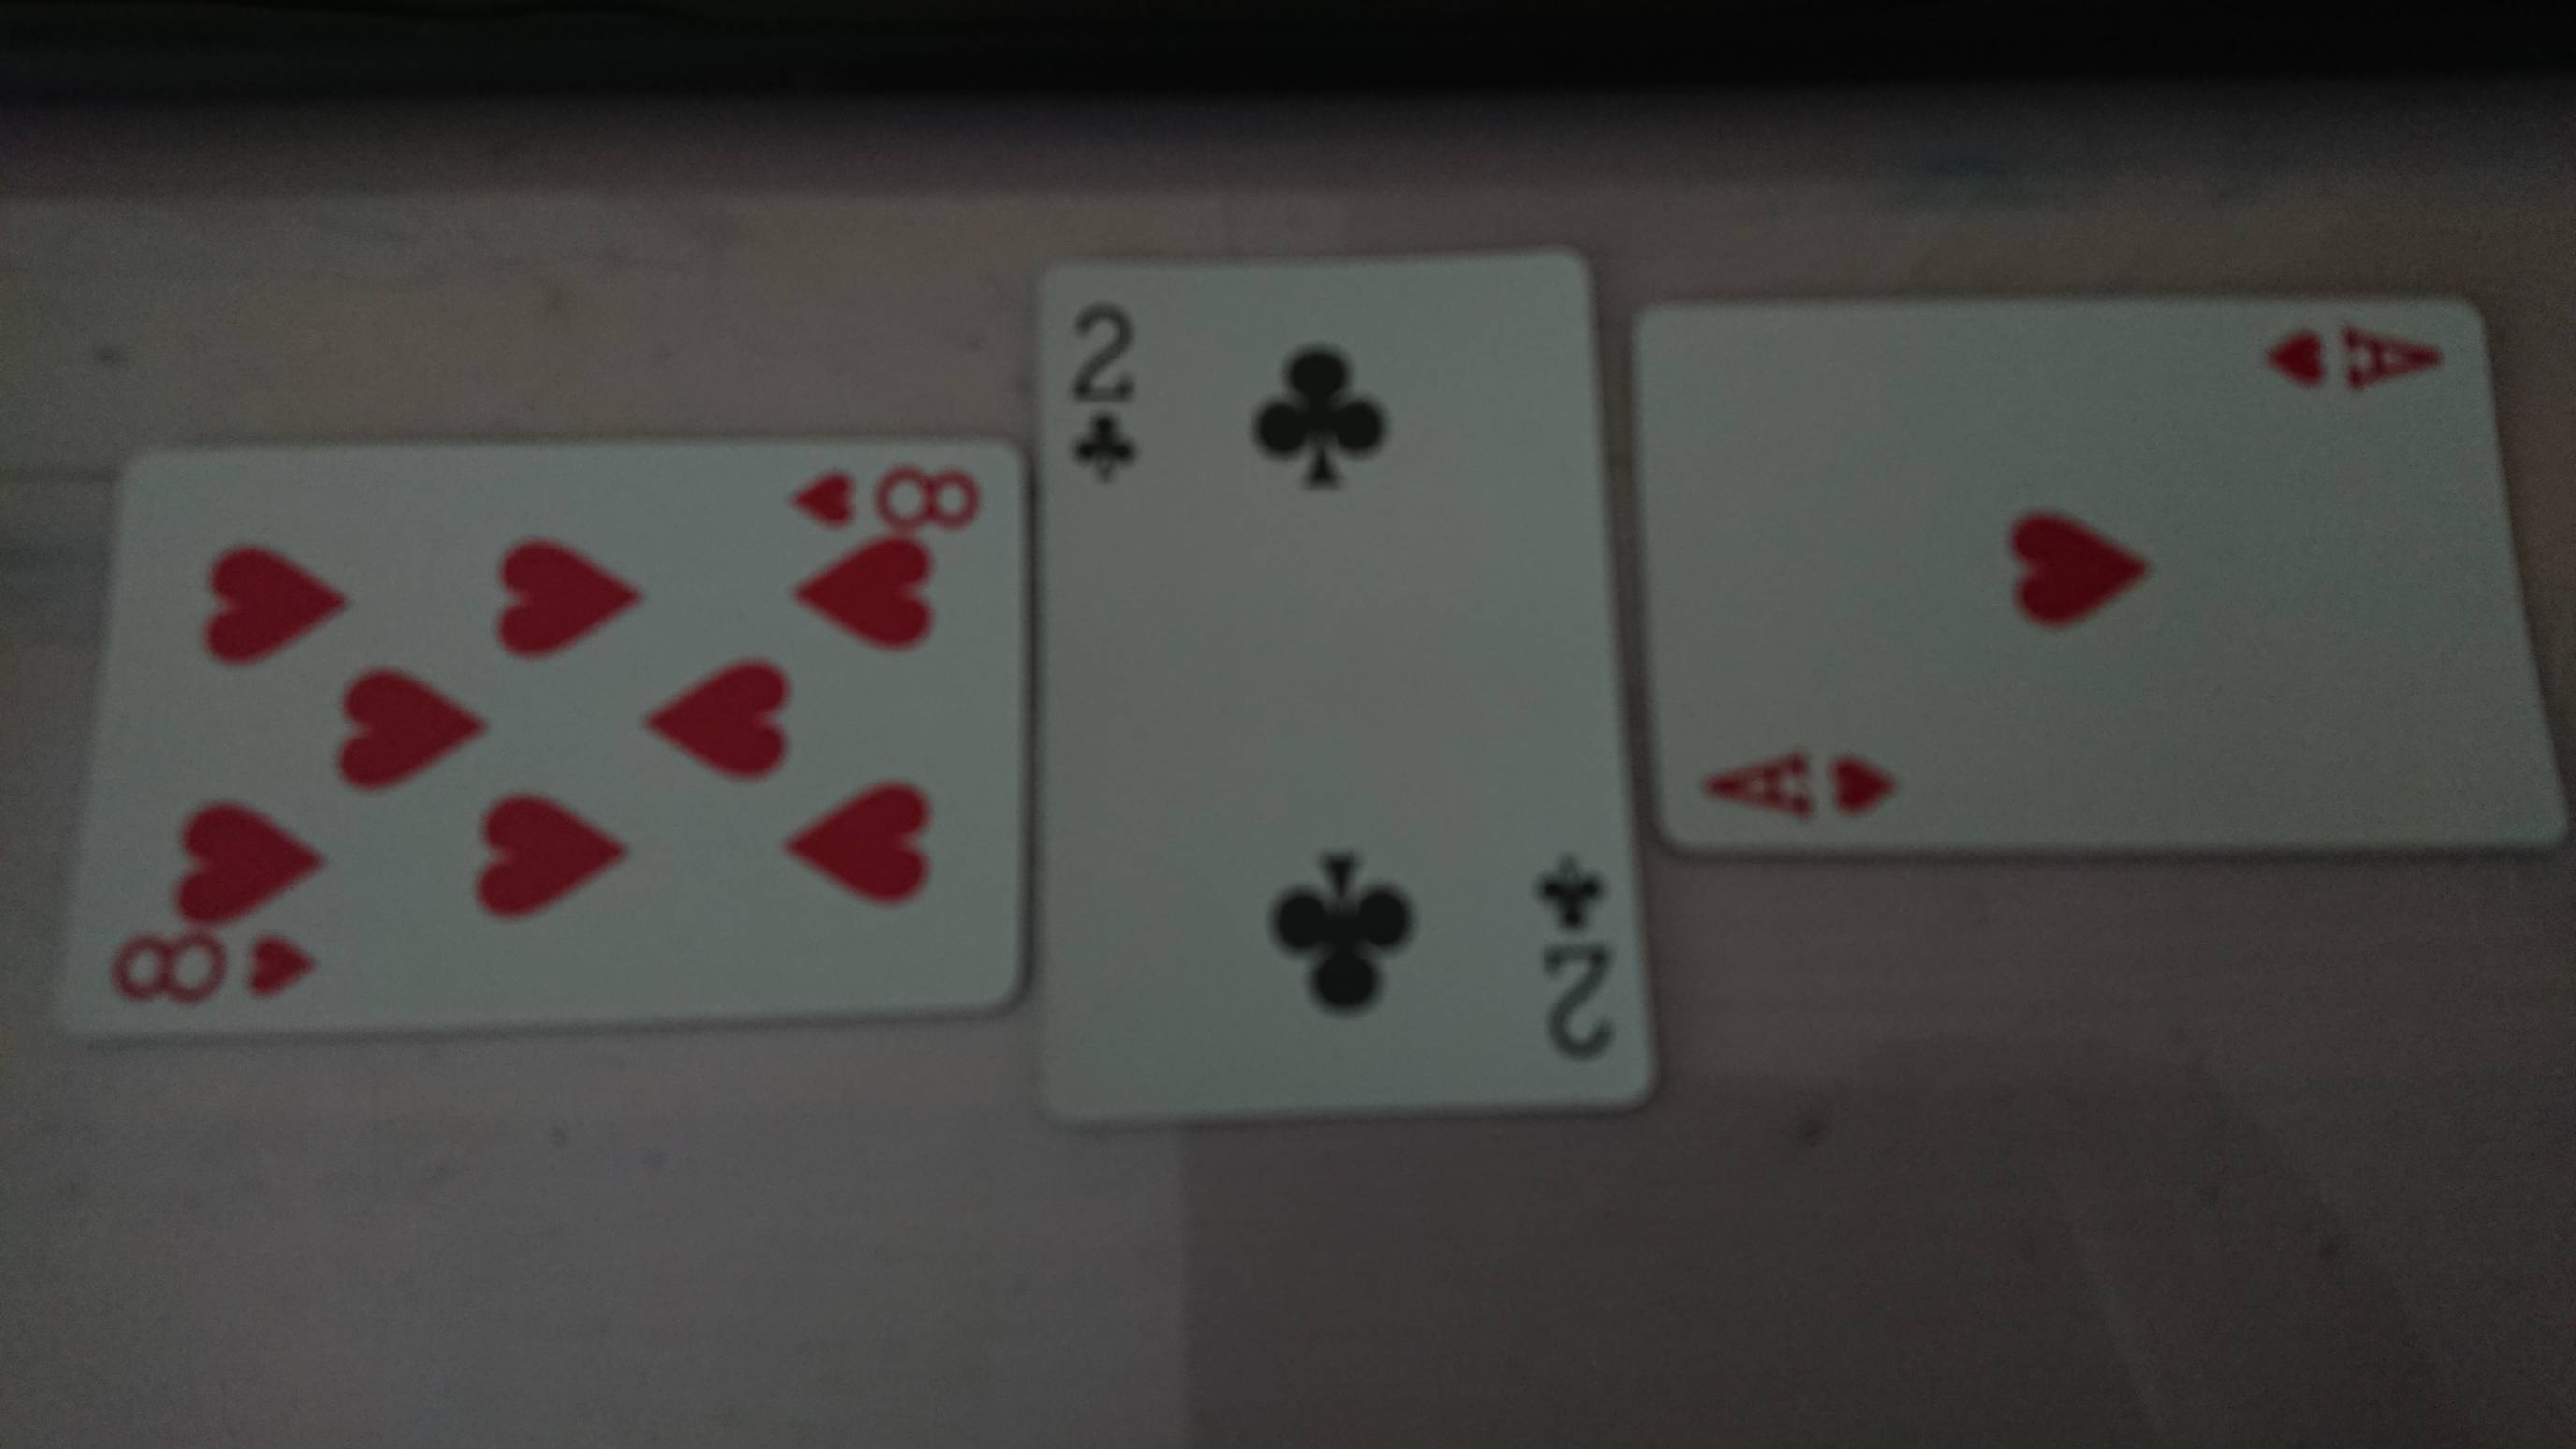2C: (1060, 294, 1150, 494)
